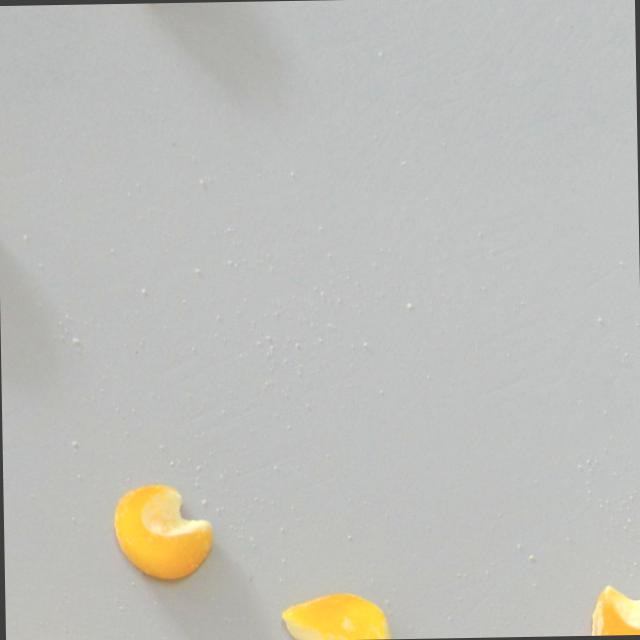no_canjicado: (114, 483, 215, 582), (281, 588, 397, 640)
pelicula: (590, 577, 640, 635)
